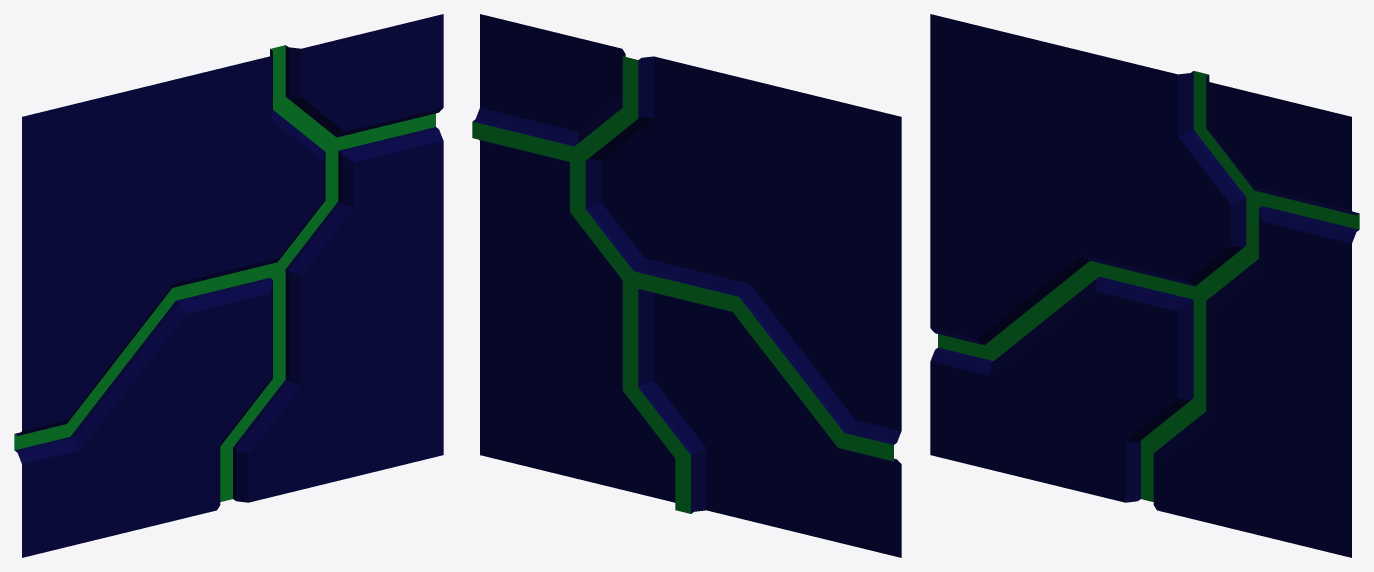
Rendered from OBJ_Mur_7.fbx.
3 renders of one model, left to right at view 1: azimuth 30°, elevation 25°; view 2: azimuth 150°, elevation 25°; view 3: azimuth 330°, elevation 25°, orthographic.
Visible parts, largest first — view 1: OBJ_Mur_7; view 2: OBJ_Mur_7; view 3: OBJ_Mur_7.
Boxes of the visible parts, left/top/right/bottom form: OBJ_Mur_7: left=14, top=14, right=443, bottom=557; OBJ_Mur_7: left=472, top=14, right=901, bottom=557; OBJ_Mur_7: left=930, top=14, right=1359, bottom=557.
Size of the model in its own units: 16 by 16 by 0.5.
